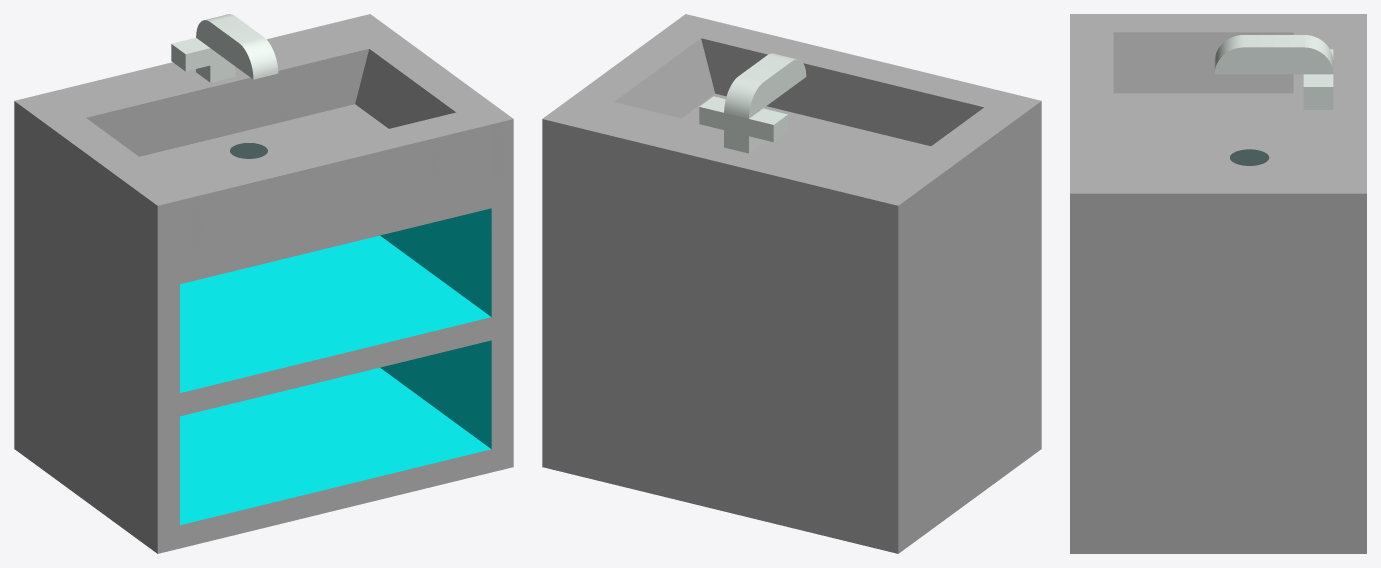
Rendered from bathroomCabinetDrawer.glb.
The picture shows the model from 3 angles, left to right: view 1: azimuth 30°, elevation 25°; view 2: azimuth 150°, elevation 25°; view 3: azimuth 270°, elevation 25°; orthographic projection. The views are drawn at different scales.
Visible parts, largest first — view 1: bathroomCabinetDrawer; view 2: bathroomCabinetDrawer; view 3: bathroomCabinetDrawer.
Boxes of the visible parts, x1=… form: bathroomCabinetDrawer: x1=14, y1=14, x2=513, y2=553; bathroomCabinetDrawer: x1=542, y1=14, x2=1041, y2=553; bathroomCabinetDrawer: x1=1070, y1=14, x2=1366, y2=553.
Bounding box in the file's own units: 0.9868 × 1.08 × 0.6885.
